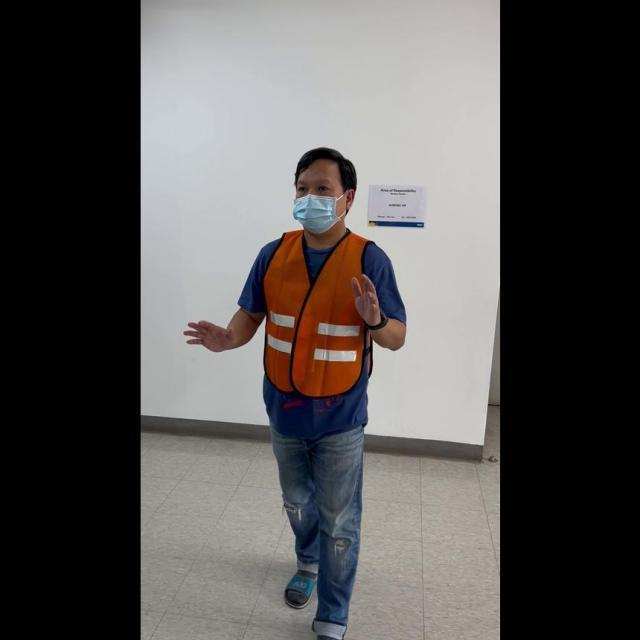bare_hand: (348, 268, 384, 330), (181, 313, 231, 353)
